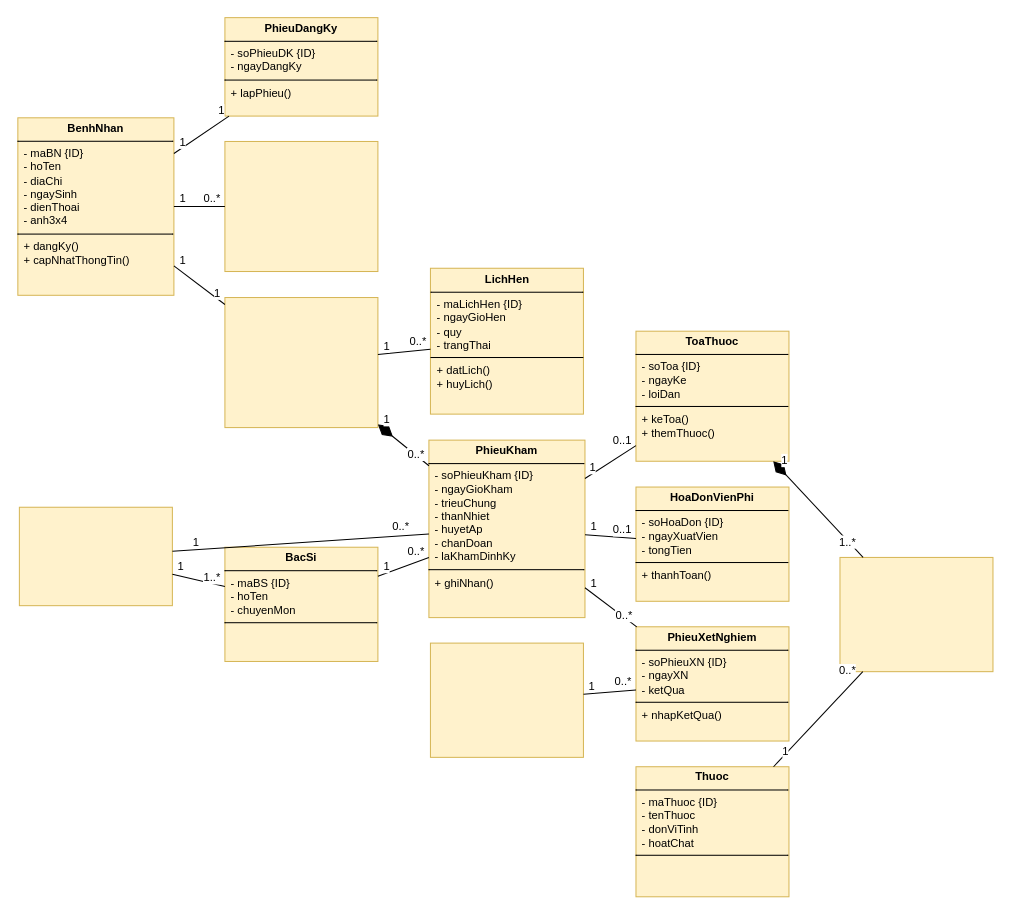
Image size: 1011x915. Some labels were removed from this diagram. Here are the shapes that lost their labels. From the top down, the centre of each, then its label:
pixel 301 206: LePhiNam - maLePhi {ID} - nam - soTien - ngayDong + conHieuLuc()
pixel 301 362: HoSoBenhAn - maHoSo {ID} - ngayLap - trangThai + timKiem() + xemLichSu()
pixel 95 556: Khoa - maKhoa {ID} - tenKhoa
pixel 916 614: ChiTietToa - soLuong - lieuDung - cachDung
pixel 506 699: LoaiXetNghiem - maLoaiXN {ID} - tenXN - donGia
